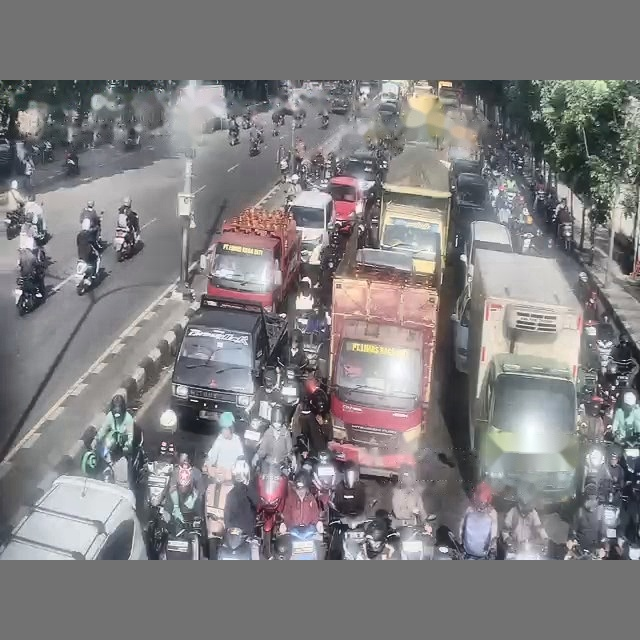Mobil: (0, 475, 147, 559)
Motor: (257, 460, 289, 558), (397, 515, 435, 559), (280, 523, 324, 559), (215, 528, 259, 559), (14, 276, 44, 315), (75, 256, 100, 295), (113, 227, 136, 261), (5, 207, 25, 239), (65, 154, 79, 176), (228, 129, 239, 146), (320, 114, 328, 129)
Truk: (467, 249, 582, 503), (328, 234, 438, 476), (171, 294, 287, 427), (373, 145, 450, 284), (200, 207, 301, 311)
